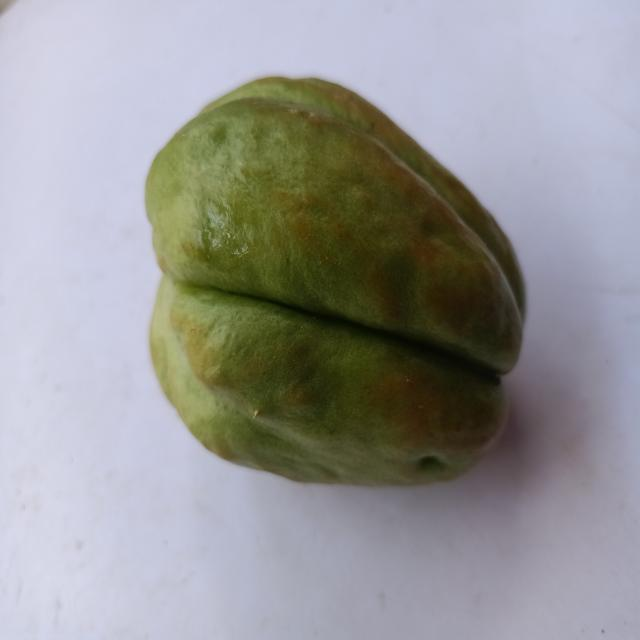Chayote: (126, 64, 544, 508)
